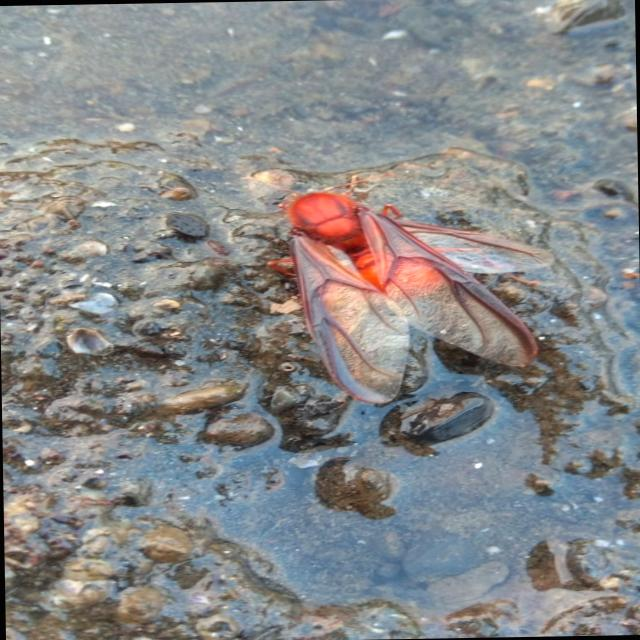Alive-Male-Alate: (237, 169, 557, 407)
